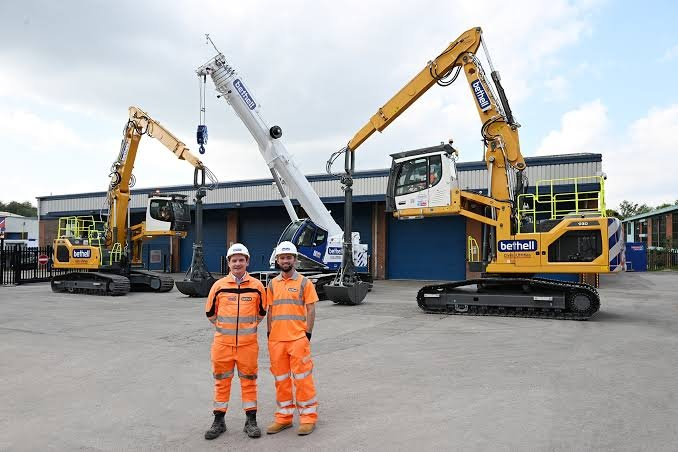hardhat: (218, 245, 251, 263), (269, 241, 299, 259)
machinery: (329, 24, 631, 326), (181, 40, 368, 321), (43, 101, 212, 288)
person: (198, 242, 264, 442), (259, 238, 322, 441)
safety_vest: (207, 274, 259, 339), (263, 271, 310, 340)
